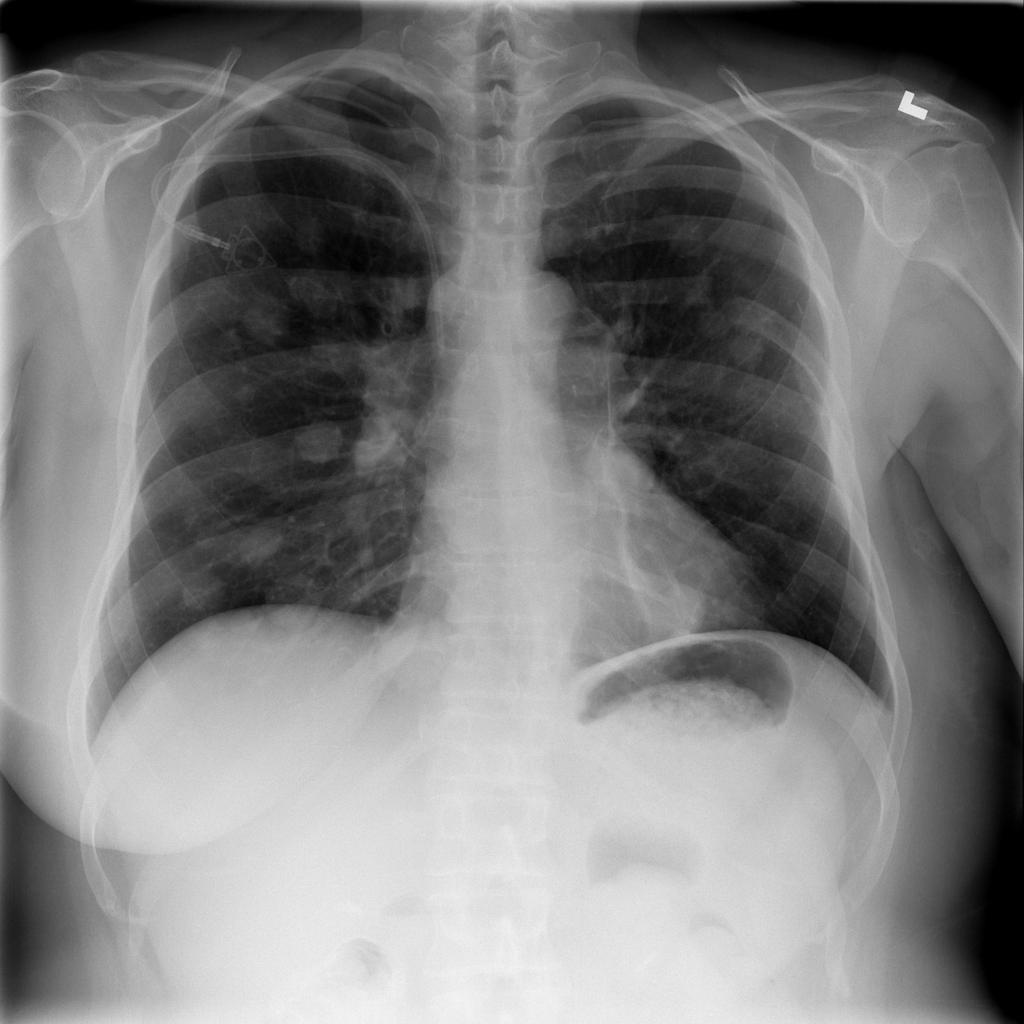nodule: (278, 256, 359, 330), (713, 303, 786, 382), (256, 564, 335, 636), (349, 405, 419, 483), (644, 196, 722, 265), (230, 281, 299, 359), (160, 560, 242, 624), (221, 511, 298, 575), (673, 271, 741, 342), (281, 409, 353, 475), (219, 368, 270, 420)
